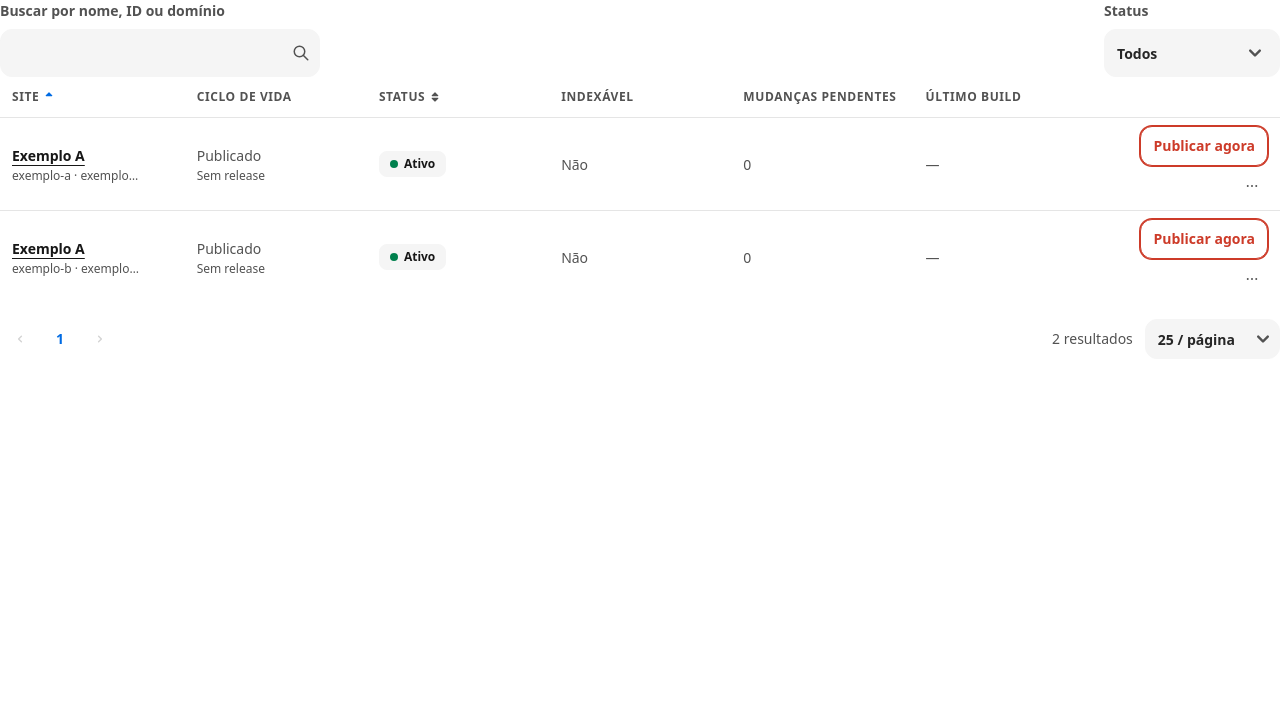
tabela de sites › "Publicar agora" fica fora do menu e o sucesso vai para o toast
Click the button named "Publicar agora exemplo-b": (1204, 239) [1140,219,1268,259]
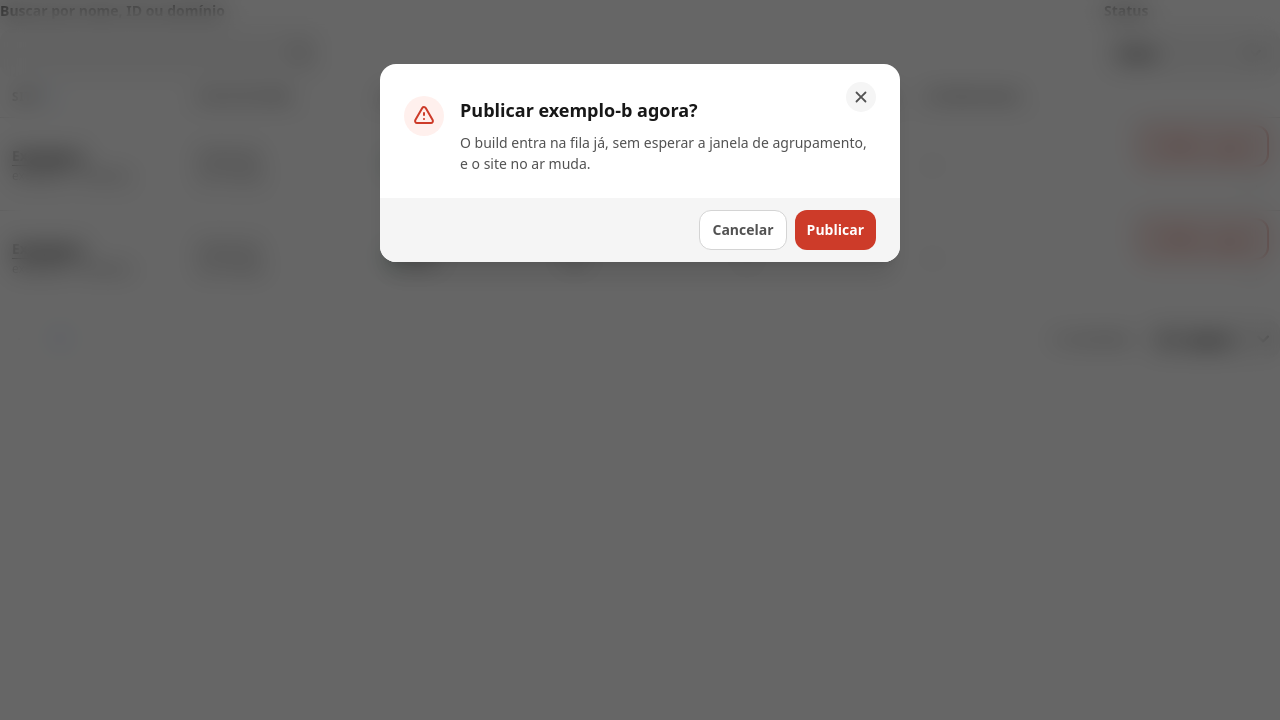
Click the button "Publicar": (835, 230) [795,210,876,250]
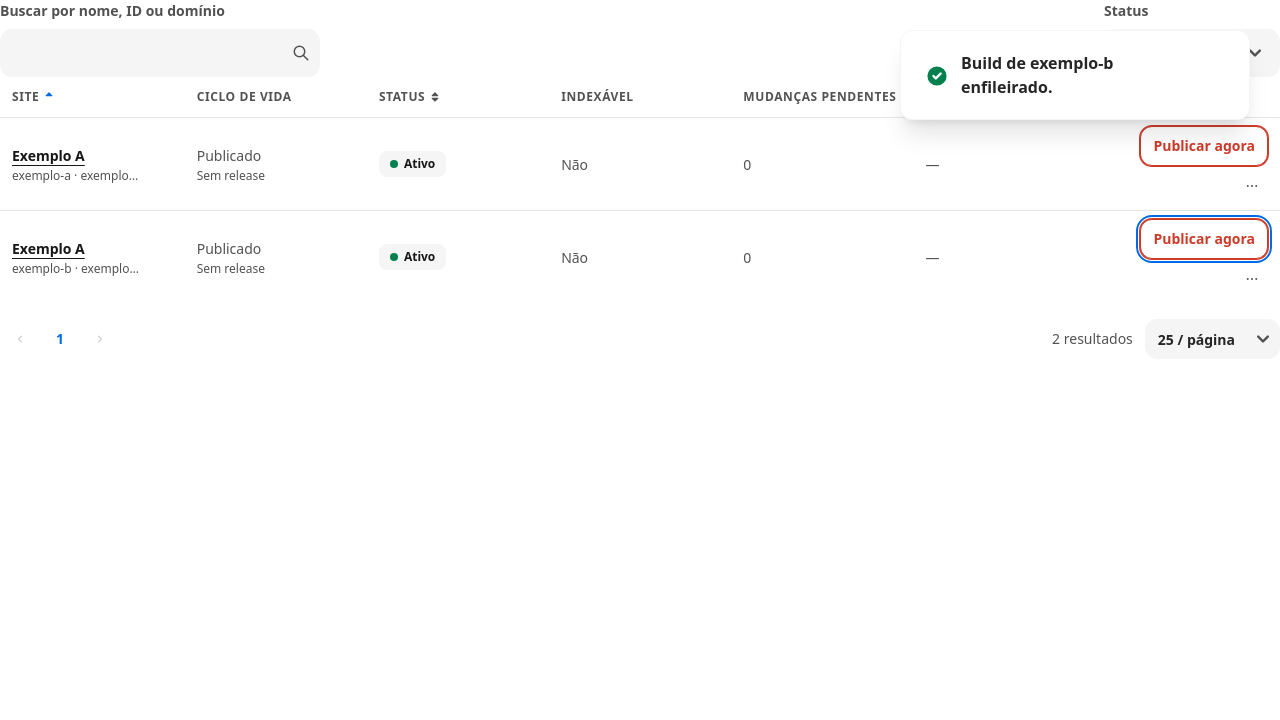
Result: the message "Build de exemplo-b enfileirado." is shown at [900,30,1250,132]
